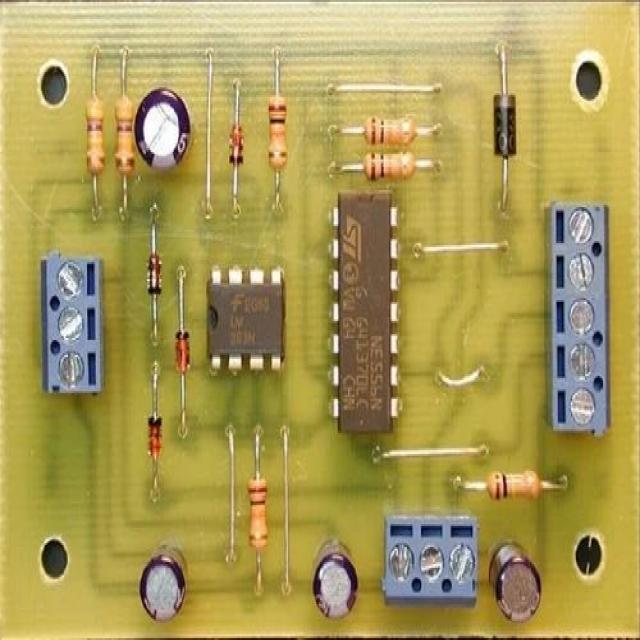pcb: (0, 0, 639, 638), (326, 188, 401, 433), (544, 197, 611, 437), (379, 511, 479, 606), (40, 249, 104, 395), (205, 264, 285, 372)
